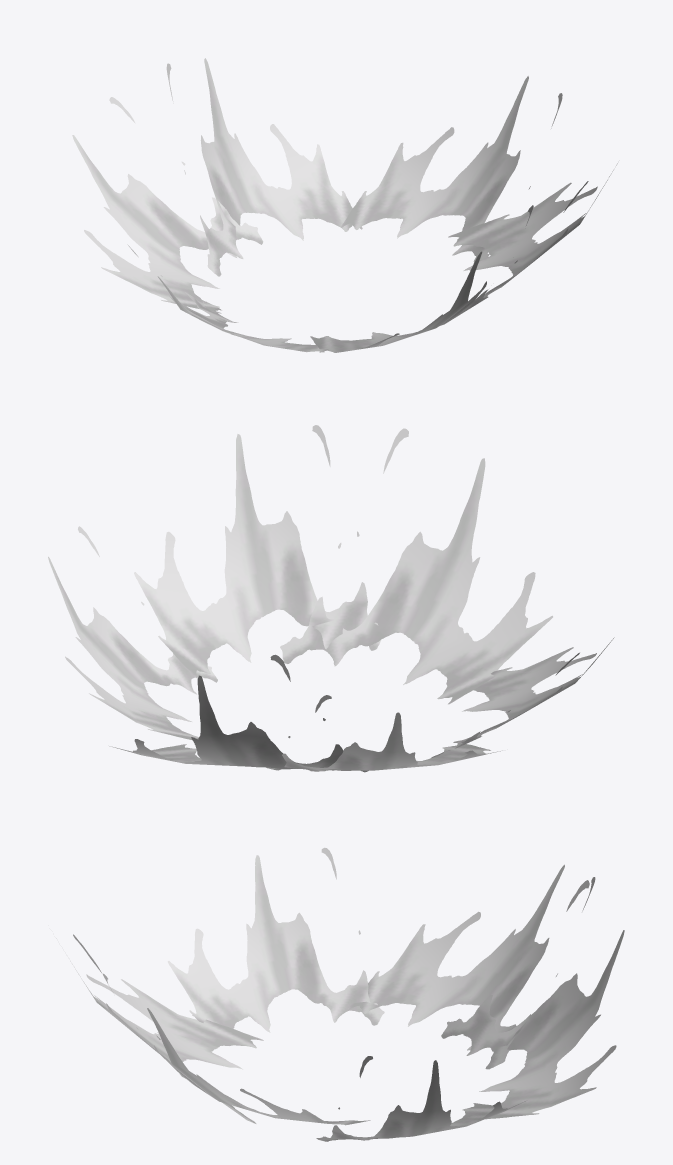
Rendered from juxiangguai-skill3-bob4.FBX.
3 renders of one model, top to bottom at view 1: azimuth 30°, elevation 25°; view 2: azimuth 150°, elevation 25°; view 3: azimuth 270°, elevation 25°, orthographic. The views are drawn at different scales.
Visible parts, largest first — view 1: zhujue_fg_skill3_bob4; view 2: zhujue_fg_skill3_bob4; view 3: zhujue_fg_skill3_bob4.
Boxes of the visible parts, left/top/right/bottom form: zhujue_fg_skill3_bob4: left=72, top=58, right=617, bottom=352; zhujue_fg_skill3_bob4: left=48, top=425, right=614, bottom=772; zhujue_fg_skill3_bob4: left=56, top=847, right=624, bottom=1141.
Size of the model in its own units: 404 by 155 by 398.
